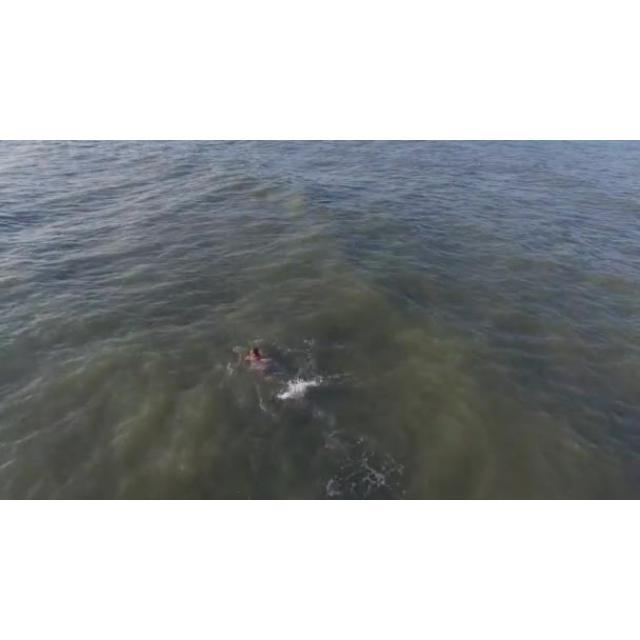human: (240, 344, 269, 371)
